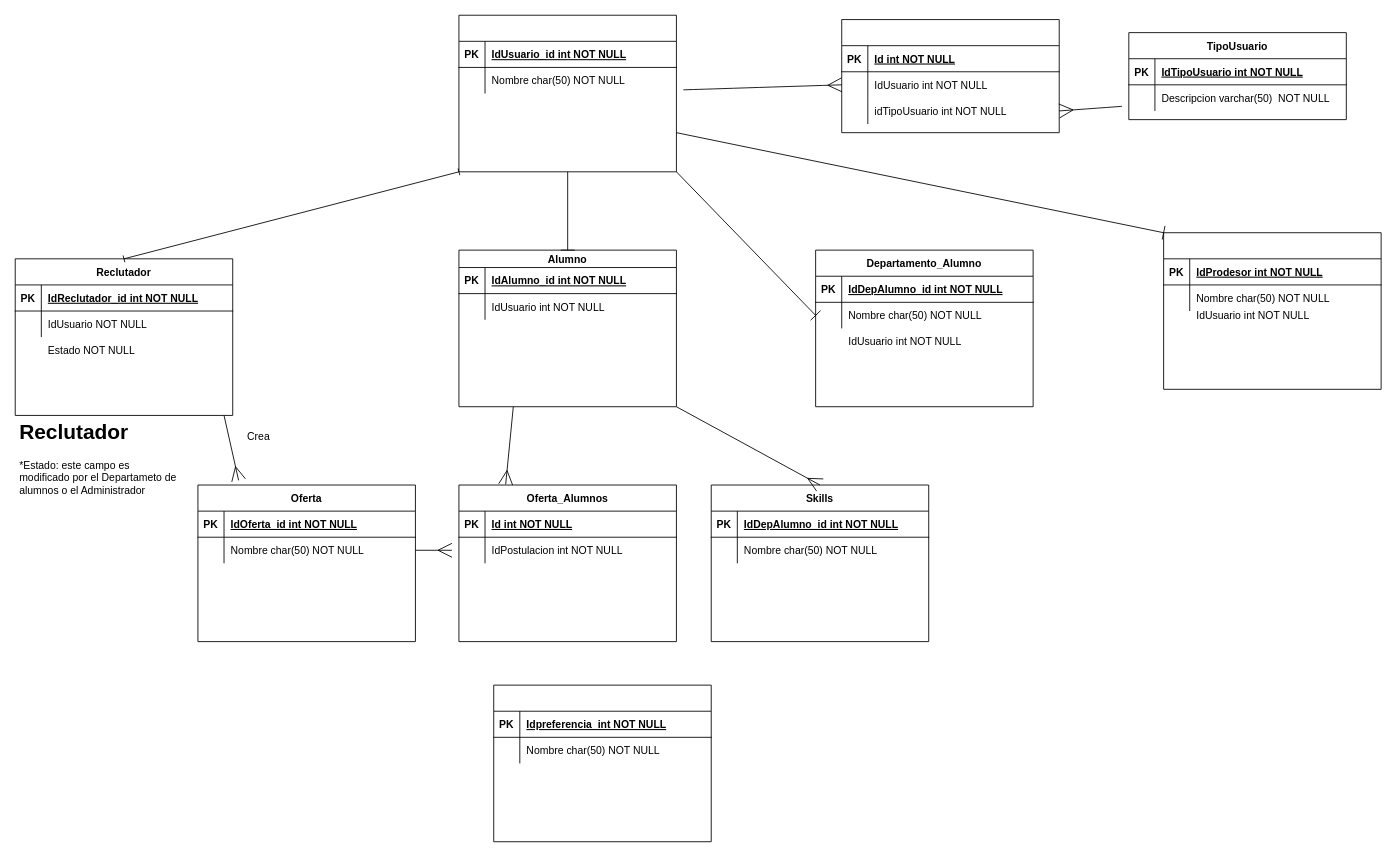
The diagram is 1396 pixels wide and 857 high, and some of its shapes have lost their labels. Each missing label, with the box of its shape:
Preferencias: (493, 684, 711, 842)
Profesor: (1163, 232, 1381, 389)
TipoUsuario_Usuarios: (841, 19, 1059, 133)
Usuarios: (458, 14, 676, 172)
